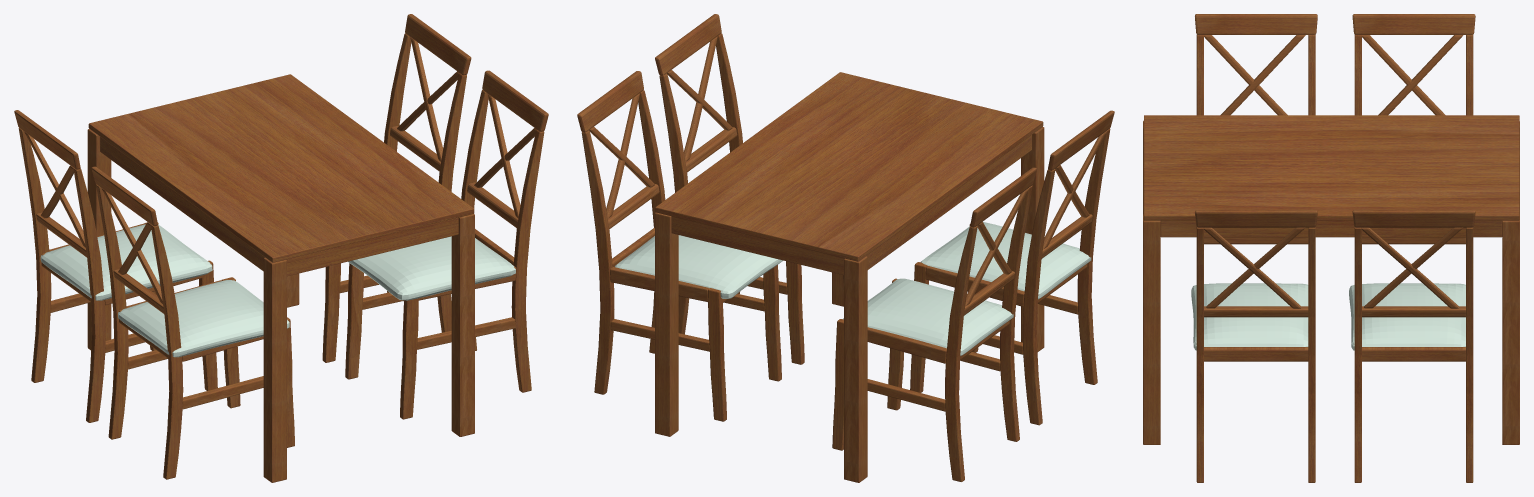
3 renders of one model, left to right at view 1: azimuth 30°, elevation 25°; view 2: azimuth 150°, elevation 25°; view 3: azimuth 270°, elevation 25°, orthographic. The views are drawn at different scales.
Visible parts, largest first — view 1: Box038, Object006.001, Box010.001, Object004.002, Box028, Box020.001, Box019.002, Box002.002, Box011.001, Box008.003, Box029, Box017.001 (+18 smaller); view 2: Box038, Object006.001, Box019.002, Object004.002, Box035, Box017.001, Box037, Box010.001, Box008.003, Box011.001, Box026, Box029 (+19 smaller); view 3: Box038, Object006.001, Box028, Box037, Object004.002, Box012.001, Box003.003, Box030, Box021, Box026, Box029, Box035 (+19 smaller).
Part boxes in pixels (left/top/right/bottom): Box038: left=88, top=74, right=474, bottom=262; Object006.001: left=87, top=129, right=474, bottom=482; Box010.001: left=118, top=280, right=289, bottom=357; Object004.002: left=100, top=137, right=458, bottom=276; Box028: left=348, top=236, right=515, bottom=300; Box020.001: left=400, top=130, right=544, bottom=419; Box019.002: left=40, top=224, right=212, bottom=300; Box002.002: left=150, top=224, right=294, bottom=479; Box011.001: left=73, top=168, right=217, bottom=422; Box008.003: left=96, top=184, right=240, bottom=439; Box029: left=322, top=73, right=466, bottom=362; Box017.001: left=18, top=128, right=158, bottom=382; Box038: left=655, top=72, right=1043, bottom=261; Object006.001: left=655, top=127, right=1044, bottom=482; Box019.002: left=843, top=278, right=1013, bottom=355; Object004.002: left=671, top=135, right=1031, bottom=275; Box035: left=581, top=130, right=726, bottom=421; Box017.001: left=832, top=225, right=977, bottom=481; Box037: left=615, top=235, right=782, bottom=298; Box010.001: left=920, top=222, right=1091, bottom=299; Box008.003: left=910, top=169, right=1055, bottom=425; Box011.001: left=887, top=185, right=1032, bottom=441; Box026: left=659, top=73, right=804, bottom=364; Box029: left=638, top=90, right=781, bottom=381; Box038: left=1144, top=115, right=1519, bottom=220; Object006.001: left=1143, top=120, right=1519, bottom=444; Box028: left=1191, top=283, right=1308, bottom=350; Box037: left=1349, top=283, right=1465, bottom=350; Object004.002: left=1160, top=220, right=1502, bottom=237; Box012.001: left=1352, top=14, right=1475, bottom=34; Box003.003: left=1195, top=14, right=1317, bottom=34; Box030: left=1352, top=210, right=1475, bottom=227; Box021: left=1195, top=210, right=1317, bottom=227; Box026: left=1308, top=227, right=1315, bottom=482; Box029: left=1354, top=227, right=1361, bottom=482; Box035: left=1466, top=227, right=1473, bottom=482.
Bounding box in the file's own units: 137 × 91.2 × 110.
3 materials, 2 textured.
